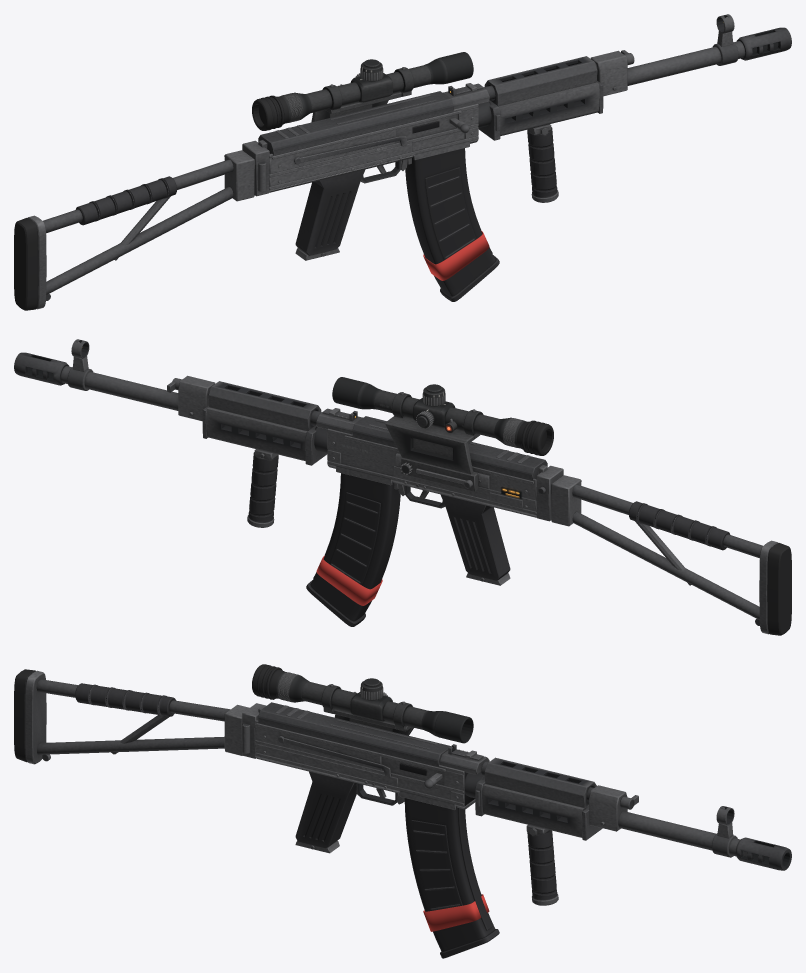
The model's file is saiga12k.gltf.
3 views of the same model, one above another, from view 1: azimuth 30°, elevation 25°; view 2: azimuth 150°, elevation 25°; view 3: azimuth 330°, elevation 25° (orthographic).
Parts seen in each view (by area): view 1: body, stock, magazine, optic, mag_tape, slide; view 2: body, stock, optic, magazine, mag_tape; view 3: body, stock, magazine, optic, mag_tape, slide.
Part boxes in pixels (<box>): body: <box>242,14,791,260</box>; stock: <box>14,150,254,310</box>; magazine: <box>405,148,499,301</box>; optic: <box>252,52,473,130</box>; mag_tape: <box>423,230,489,280</box>; slide: <box>395,114,469,142</box>; body: <box>14,339,563,585</box>; stock: <box>551,475,791,635</box>; optic: <box>332,377,553,491</box>; magazine: <box>306,473,400,626</box>; mag_tape: <box>316,555,382,605</box>; body: <box>242,702,791,905</box>; stock: <box>14,669,249,764</box>; magazine: <box>403,797,499,958</box>; optic: <box>252,664,473,743</box>; mag_tape: <box>423,894,489,931</box>; slide: <box>381,757,444,788</box>.
Bounding box in the file's own units: 1.15 × 0.3666 × 0.0957.
Materials: 3 (1 with a texture image).
